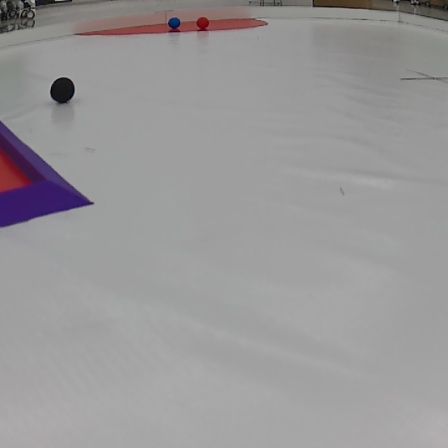black: (48, 77, 76, 103)
blue: (168, 18, 180, 27)
red: (197, 15, 210, 30)
red_aim: (0, 125, 100, 219)
red_base: (79, 21, 269, 33)
